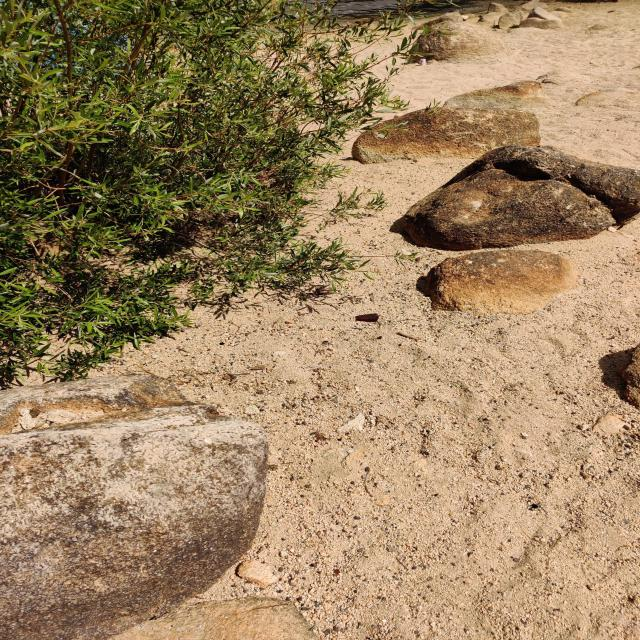litter: (355, 313, 379, 322), (420, 59, 426, 64)
